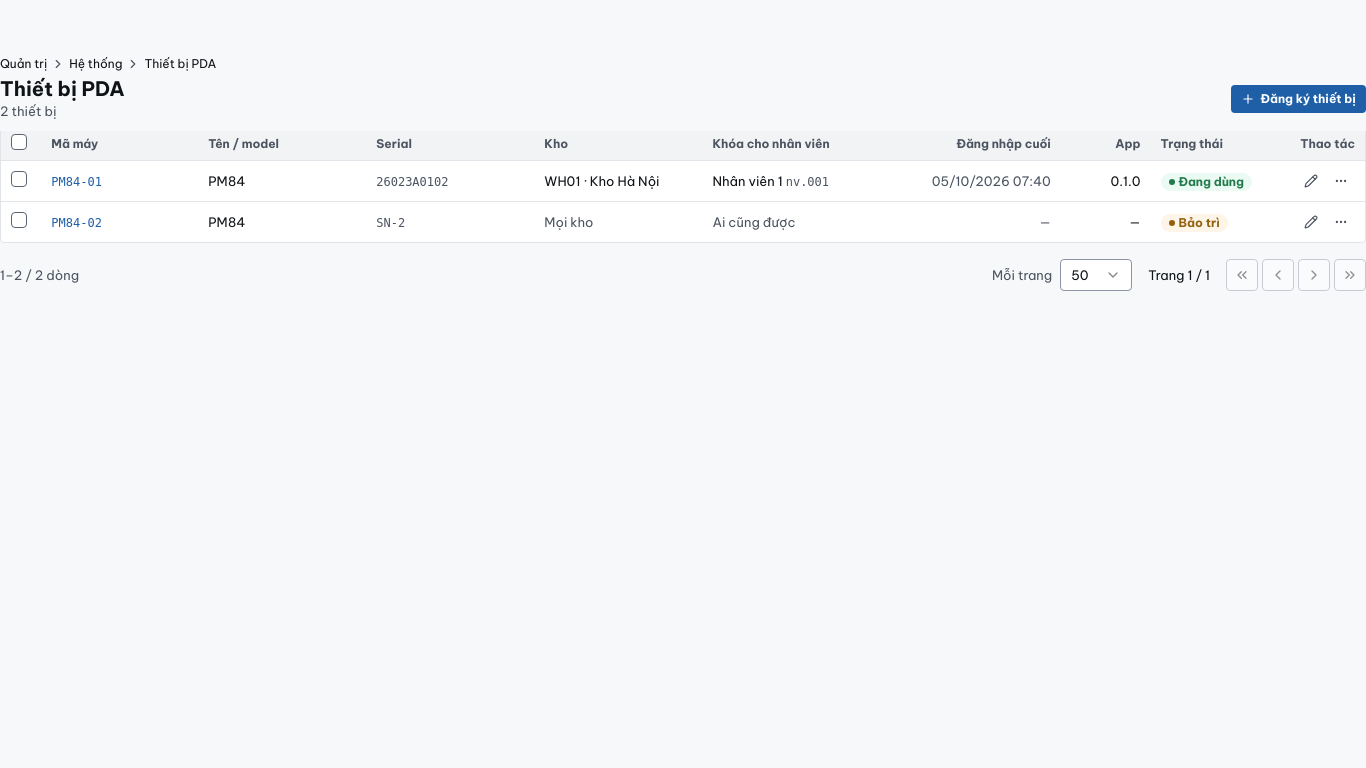
it: PdaDevicesScreen — Thiết bị PDA › Xóa nhiều: chọn tất cả → "Xóa (2)" → POST /devices/bulk-delete
Expected: the text "PM84-01" is shown, [51,174,102,188]
Click the checkbox named "Chọn tất cả dòng trong trang" at (19, 142), box [11,134,27,150]
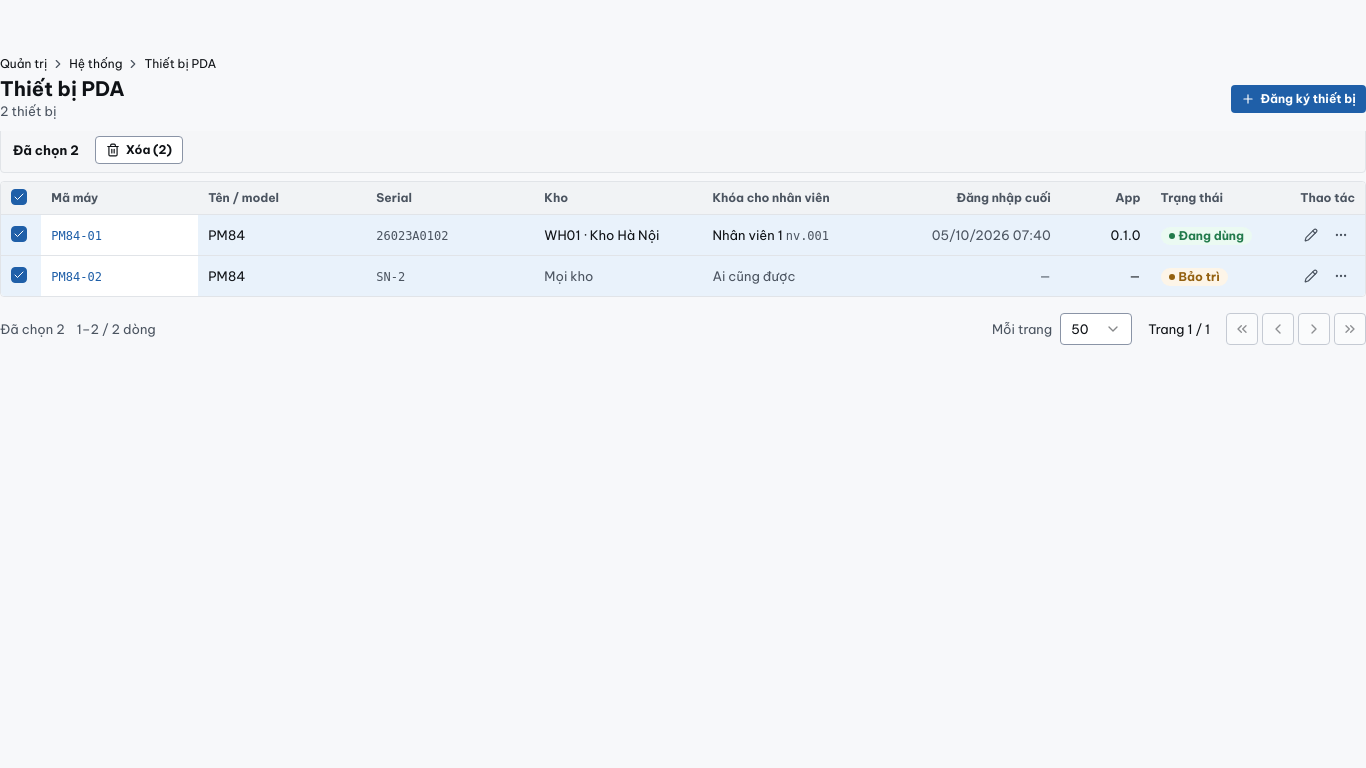
Click the button "Xóa (2)" at (139, 150), box [95,136,183,164]
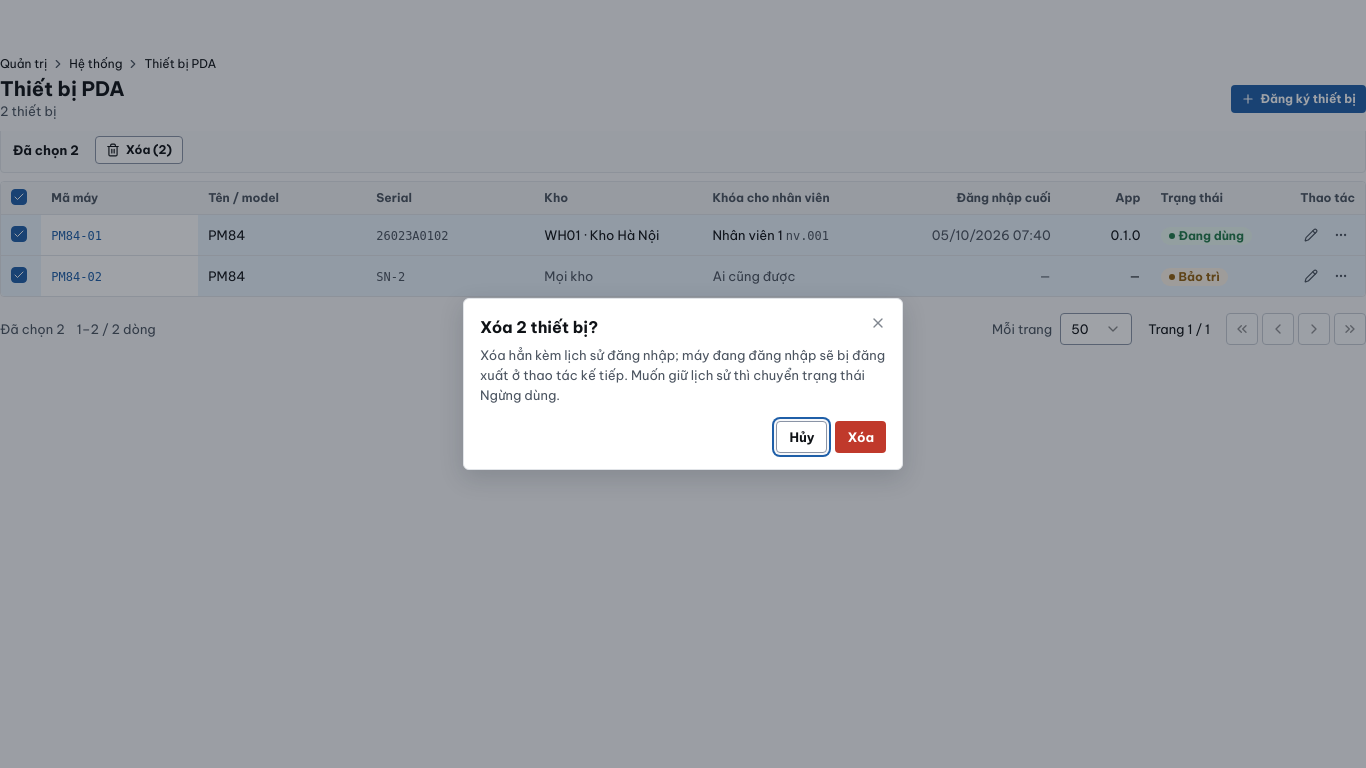
Now the heading "Xóa 2 thiết bị?" is shown, box [480,317,598,337]
Click the button "Xóa" at (861, 437), box [836,421,886,453]
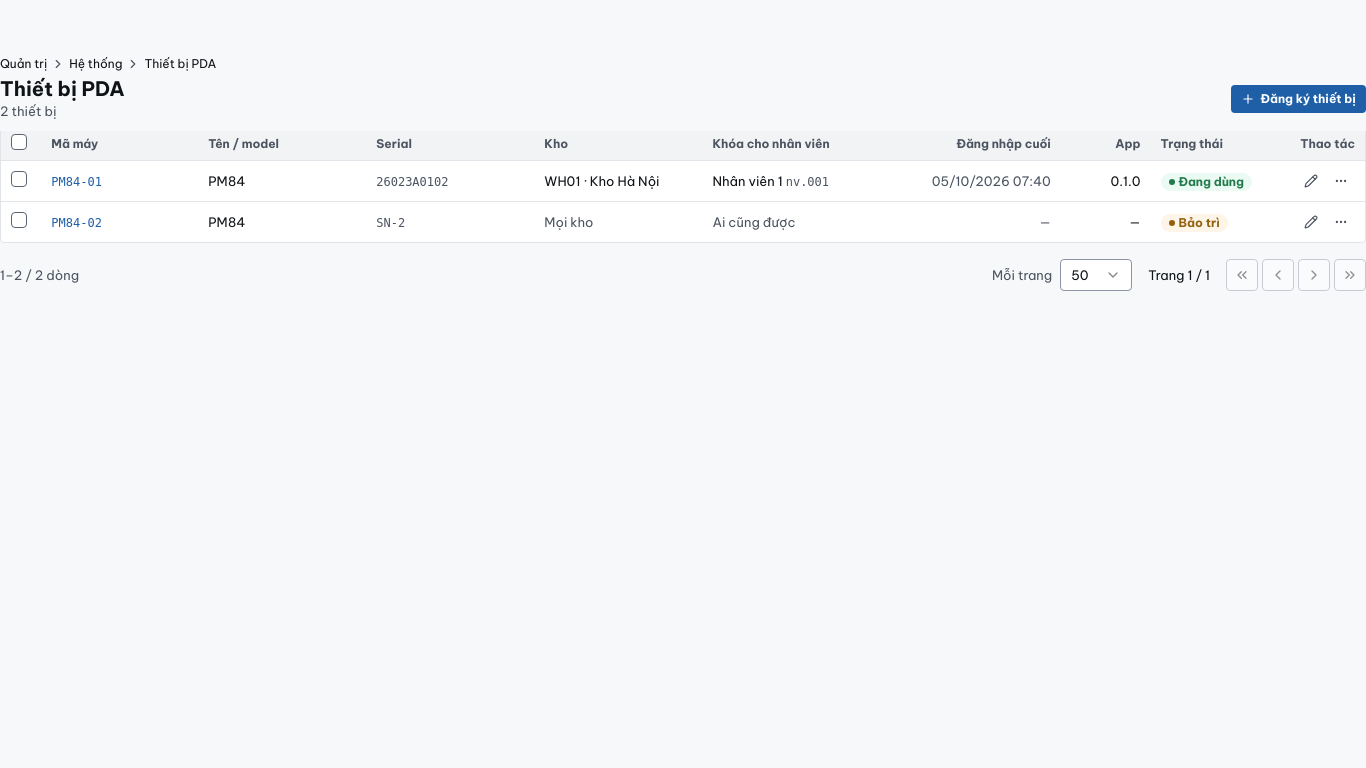
Now the button "Xóa (2)" is gone
